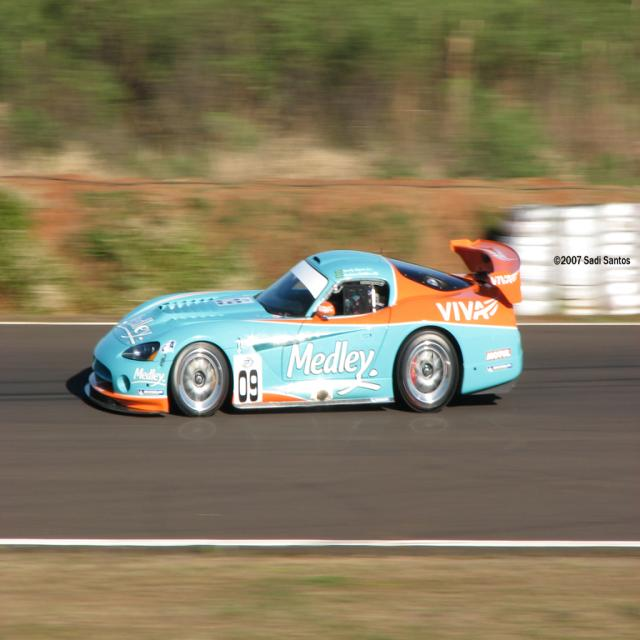car: (90, 235, 521, 427)
